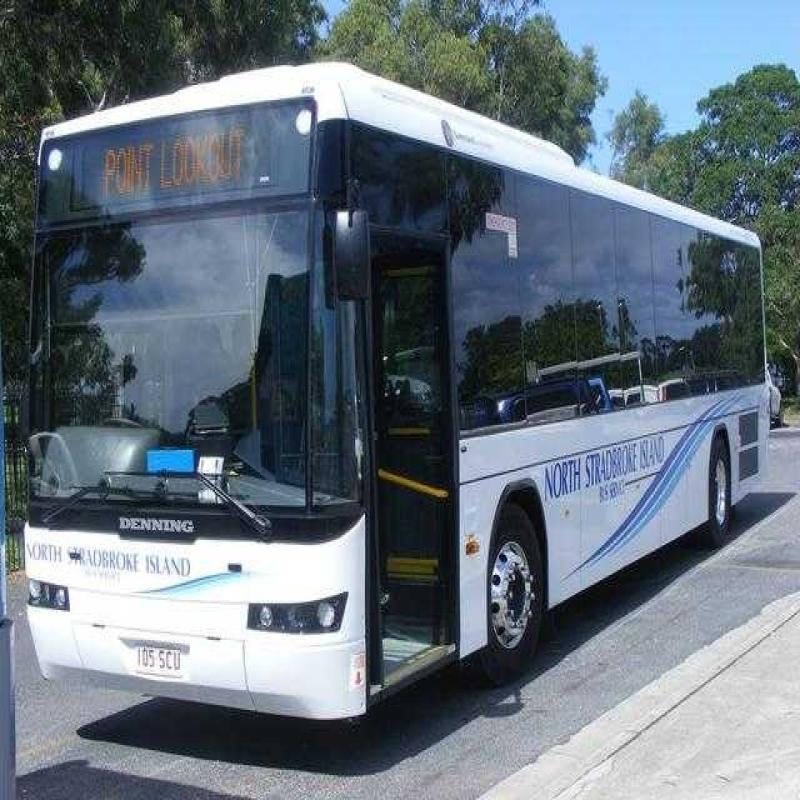bus: (48, 60, 744, 679)
